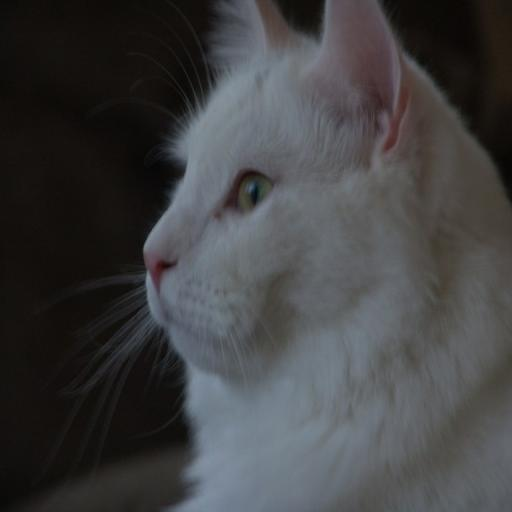cat: (142, 0, 512, 512)
